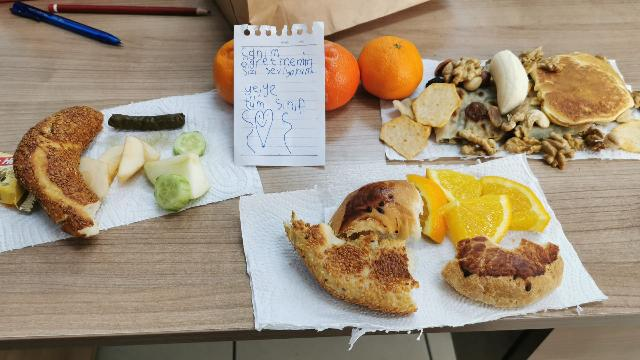Organik: (282, 210, 417, 316), (16, 103, 111, 242), (442, 234, 566, 308), (536, 51, 636, 126), (333, 178, 420, 249), (483, 174, 552, 237), (362, 34, 423, 99), (143, 154, 211, 203), (406, 172, 447, 247), (444, 197, 511, 242), (423, 162, 488, 205), (488, 51, 531, 115), (326, 40, 357, 116), (379, 114, 431, 157), (414, 82, 459, 129), (147, 172, 191, 215), (108, 110, 186, 133), (536, 132, 578, 168), (437, 54, 483, 85), (457, 126, 499, 158), (118, 134, 143, 184), (215, 38, 233, 106), (610, 120, 640, 156), (172, 131, 206, 159), (580, 126, 607, 155), (508, 134, 538, 153)
